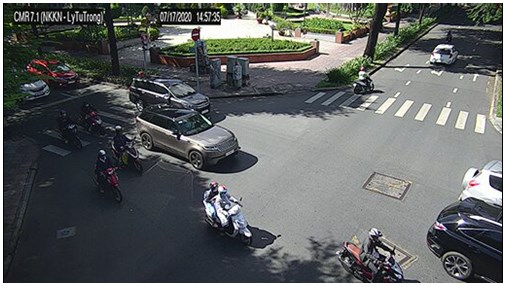xe_hoi: (135, 108, 239, 171), (427, 200, 503, 282), (129, 76, 211, 118), (457, 160, 502, 206), (27, 58, 80, 88), (18, 80, 51, 102), (430, 44, 458, 66)
xe_may: (337, 227, 404, 283), (201, 180, 254, 246), (92, 150, 123, 203), (111, 125, 144, 174), (56, 110, 84, 151), (80, 103, 106, 136), (353, 66, 374, 94), (445, 30, 453, 44)
